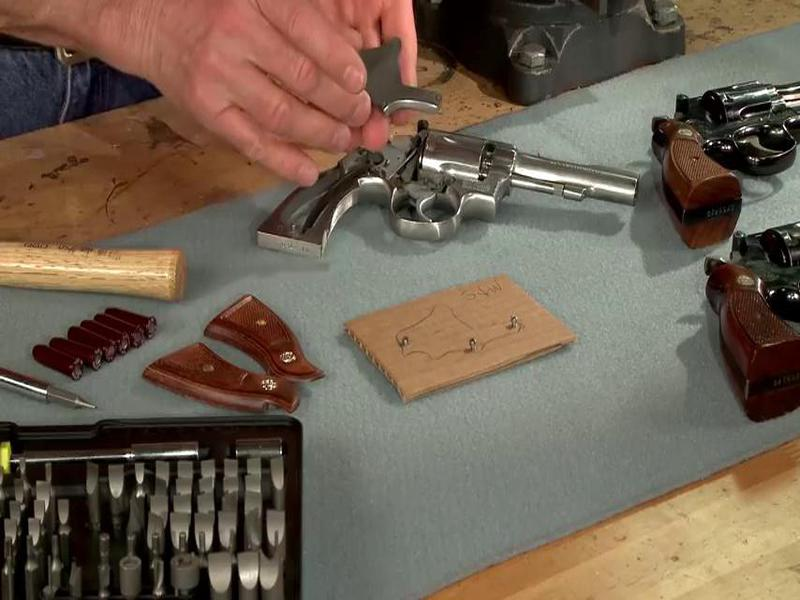Revolver: (226, 82, 654, 304)
